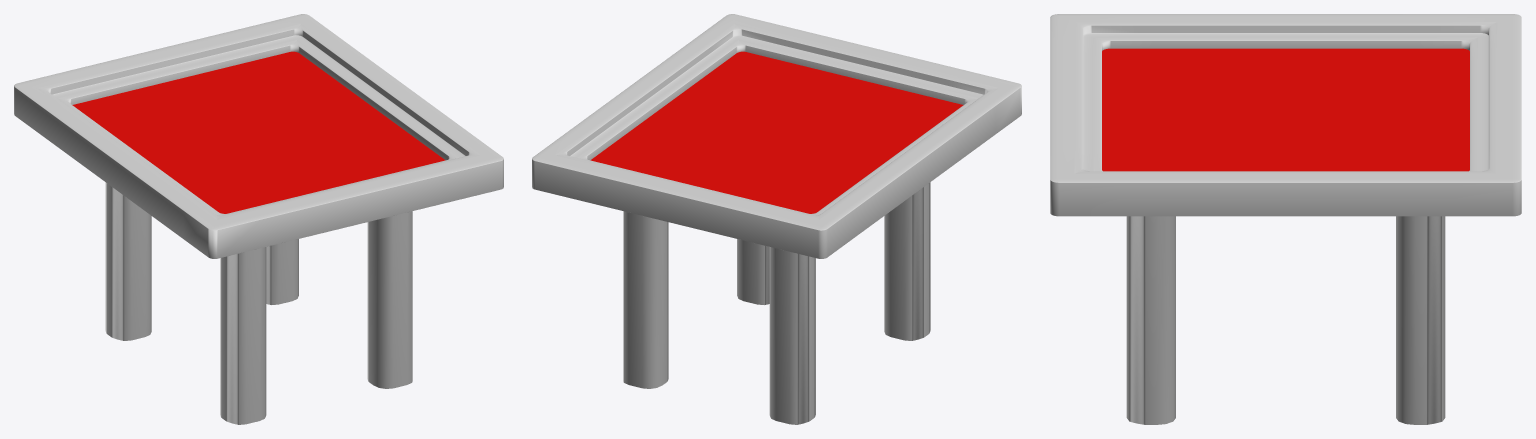
Rendered from scenePPT.glb.
3 renders of one model, left to right at view 1: azimuth 30°, elevation 25°; view 2: azimuth 150°, elevation 25°; view 3: azimuth 270°, elevation 25°, orthographic. The views are drawn at different scales.
Visible parts, largest first — view 1: Cube, Cube.001; view 2: Cube, Cube.001; view 3: Cube, Cube.001.
Boxes of the visible parts, box(x1,y1,x2,y2) form: Cube: box(14, 14, 503, 424); Cube.001: box(72, 51, 445, 213); Cube: box(532, 14, 1021, 424); Cube.001: box(590, 51, 963, 213); Cube: box(1050, 14, 1521, 424); Cube.001: box(1102, 48, 1469, 171).
Size of the model in its own units: 5.14 by 3.9 by 6.06.
